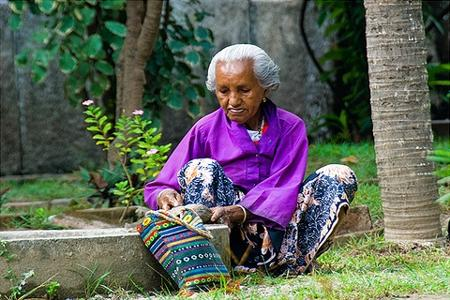person: (140, 43, 360, 280)
